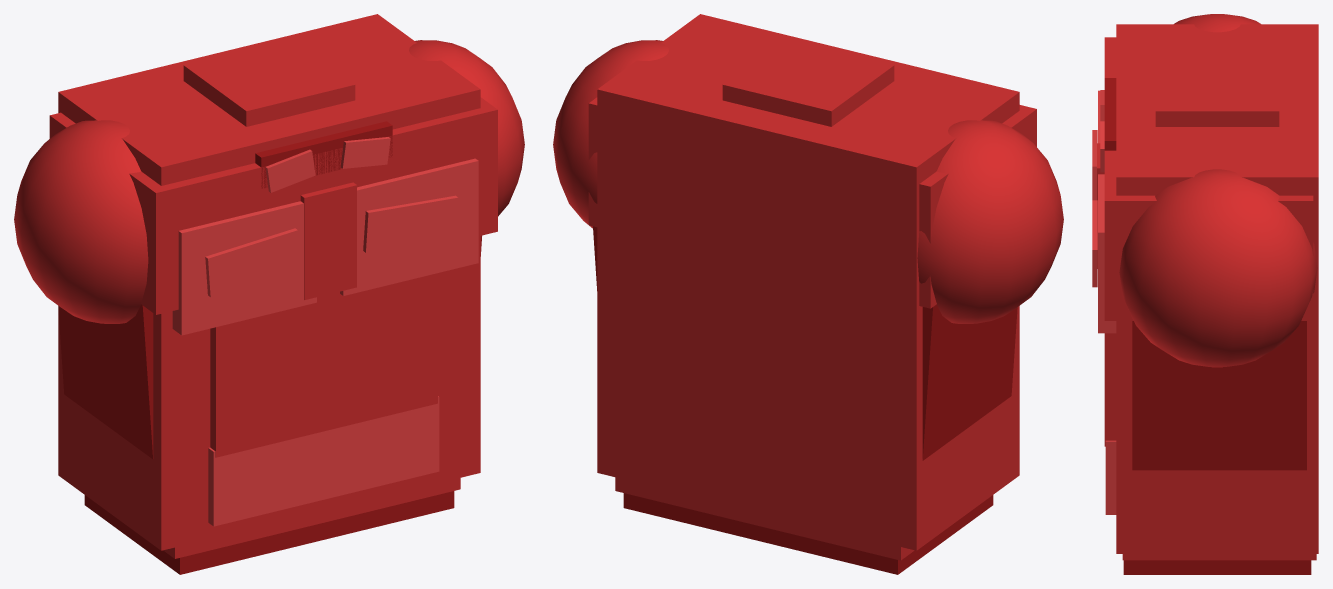
File: skomma_body_male_red_01.glb
The picture shows the model from 3 angles, left to right: view 1: azimuth 30°, elevation 25°; view 2: azimuth 150°, elevation 25°; view 3: azimuth 270°, elevation 25°; orthographic projection.
Visible parts, largest first — view 1: Torso, Front_Shirt_Panel, Left_Shoulder_Volume, Upper_Chest, Waist_Front, Left_Side_Torso, Left_Chest, NeckBase, Right_Chest, Shirt_Hem, Center_Chest, Right_Shoulder_Volume (+6 smaller); view 2: Torso, Left_Shoulder_Volume, Left_Side_Torso, NeckBase, Right_Shoulder_Volume, Shirt_Hem, Lower_Torso, Upper_Chest; view 3: Torso, Right_Shoulder_Volume, Right_Side_Torso, NeckBase, Upper_Chest, Shirt_Hem, Front_Shirt_Panel, Lower_Torso, Right_Chest, Left_Shoulder_Volume, Shirt_Collar, Waist_Front (+2 smaller).
Part boxes in pixels (x1,y1,x2,y2): Torso: [58, 14, 480, 550]; Front_Shirt_Panel: [210, 273, 437, 457]; Left_Shoulder_Volume: [14, 120, 148, 323]; Upper_Chest: [49, 97, 497, 314]; Waist_Front: [208, 396, 439, 526]; Left_Side_Torso: [58, 304, 153, 459]; Left_Chest: [172, 201, 316, 335]; NeckBase: [183, 38, 355, 126]; Right_Chest: [340, 158, 478, 295]; Shirt_Hem: [84, 491, 454, 574]; Center_Chest: [300, 182, 356, 300]; Right_Shoulder_Volume: [409, 40, 524, 216]; Torso: [597, 14, 1019, 550]; Left_Shoulder_Volume: [917, 120, 1063, 323]; Left_Side_Torso: [922, 304, 1017, 460]; NeckBase: [722, 38, 894, 126]; Right_Shoulder_Volume: [553, 40, 668, 228]; Shirt_Hem: [623, 493, 993, 574]; Lower_Torso: [615, 477, 914, 560]; Upper_Chest: [588, 97, 1036, 308]; Torso: [1116, 24, 1318, 553]; Right_Shoulder_Volume: [1119, 169, 1317, 367]; Right_Side_Torso: [1132, 321, 1306, 470]; NeckBase: [1155, 59, 1279, 126]; Upper_Chest: [1104, 37, 1313, 320]; Shirt_Hem: [1123, 560, 1311, 574]; Front_Shirt_Panel: [1104, 333, 1116, 446]; Lower_Torso: [1122, 554, 1316, 560]; Right_Chest: [1098, 174, 1116, 333]; Left_Shoulder_Volume: [1174, 14, 1260, 32]; Shirt_Collar: [1104, 78, 1116, 150]; Waist_Front: [1105, 440, 1116, 514].
Size of the model in its own units: 2.55 by 2.2 by 1.06.
